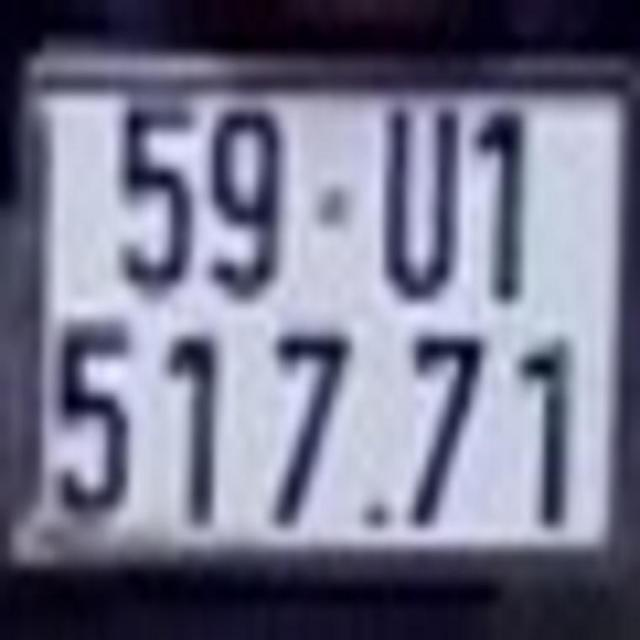1: (508, 327, 582, 530), (470, 100, 541, 308), (160, 332, 224, 530)
5: (51, 306, 136, 514), (112, 94, 196, 296)
7: (266, 318, 354, 532), (396, 329, 486, 528)
9: (202, 100, 286, 300)
U: (378, 99, 466, 304)
